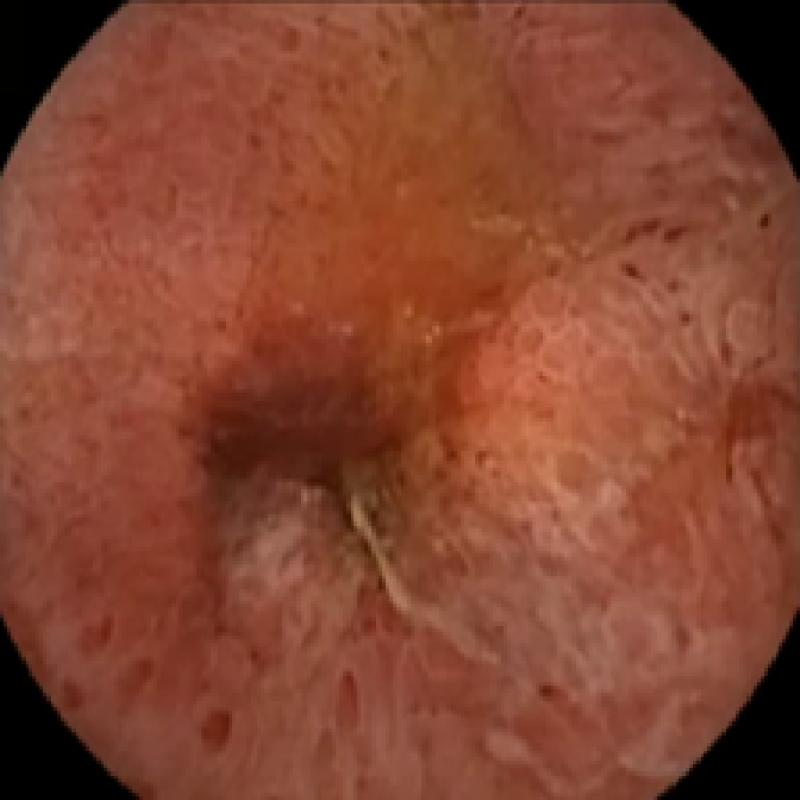bleeding: (163, 286, 534, 518), (24, 600, 242, 764), (710, 353, 800, 551), (618, 200, 696, 307)
